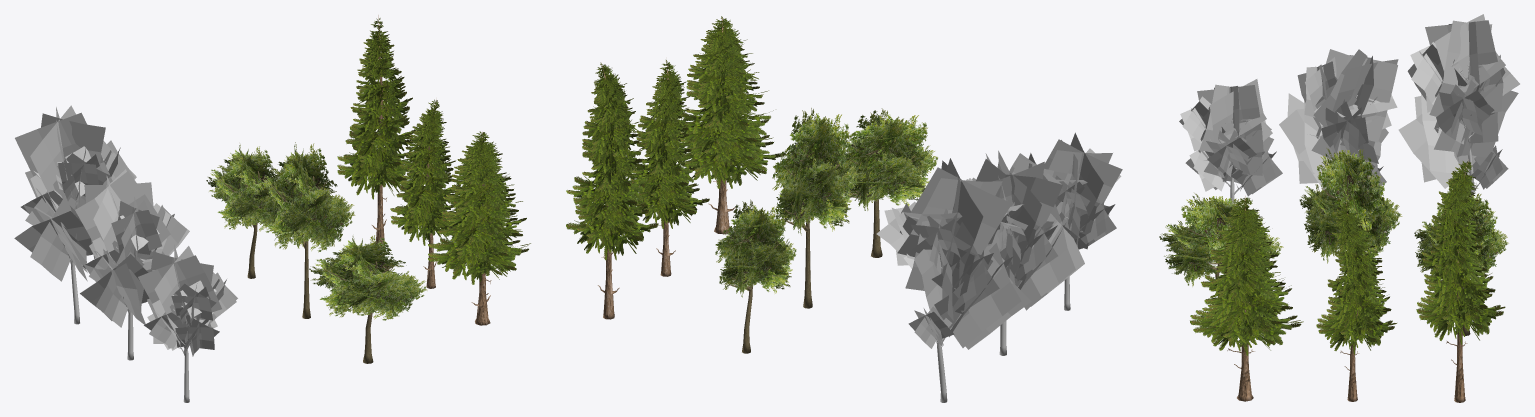
The model's file is trees set .fbx.
3 views of the same model, side by side, from view 1: azimuth 30°, elevation 25°; view 2: azimuth 150°, elevation 25°; view 3: azimuth 270°, elevation 25° (orthographic). The views are drawn at different scales.
Parts seen in each view (by area): view 1: brzoza 3, brzoza 2, Plane.002, Plane.003, brzoza 1, drzewko 2, drzewko 3, Plane.001, drzewko 1; view 2: brzoza 3, Plane.002, Plane.003, brzoza 2, drzewko 2, Plane.001, drzewko 3, drzewko 1, brzoza 1; view 3: brzoza 3, brzoza 2, Plane.002, Plane.003, brzoza 1, Plane.001, drzewko 2, drzewko 3, drzewko 1.
Part boxes in pixels (left/top/right/bottom): brzoza 3: left=14, top=105, right=136, bottom=324; brzoza 2: left=75, top=169, right=189, bottom=360; Plane.002: left=428, top=131, right=530, bottom=325; Plane.003: left=337, top=15, right=416, bottom=251; brzoza 1: left=138, top=244, right=237, bottom=402; drzewko 2: left=258, top=142, right=355, bottom=318; drzewko 3: left=309, top=235, right=427, bottom=363; Plane.001: left=390, top=99, right=460, bottom=288; drzewko 1: left=206, top=144, right=279, bottom=278; brzoza 3: left=876, top=158, right=1031, bottom=402; Plane.002: left=679, top=16, right=785, bottom=234; Plane.003: left=566, top=62, right=658, bottom=319; brzoza 2: left=972, top=150, right=1084, bottom=355; drzewko 2: left=772, top=108, right=858, bottom=308; Plane.001: left=626, top=60, right=709, bottom=276; drzewko 3: left=838, top=108, right=937, bottom=257; drzewko 1: left=715, top=199, right=796, bottom=353; brzoza 1: left=1044, top=132, right=1122, bottom=310; brzoza 3: left=1398, top=14, right=1519, bottom=195; brzoza 2: left=1279, top=49, right=1398, bottom=189; Plane.002: left=1190, top=196, right=1303, bottom=401; Plane.003: left=1416, top=160, right=1505, bottom=402; brzoza 1: left=1179, top=79, right=1282, bottom=203; Plane.001: left=1316, top=202, right=1396, bottom=401; drzewko 2: left=1299, top=148, right=1402, bottom=263; drzewko 3: left=1159, top=193, right=1283, bottom=297; drzewko 1: left=1414, top=191, right=1508, bottom=335.
Bounding box in the file's own units: 2084 × 1116 × 1524.
